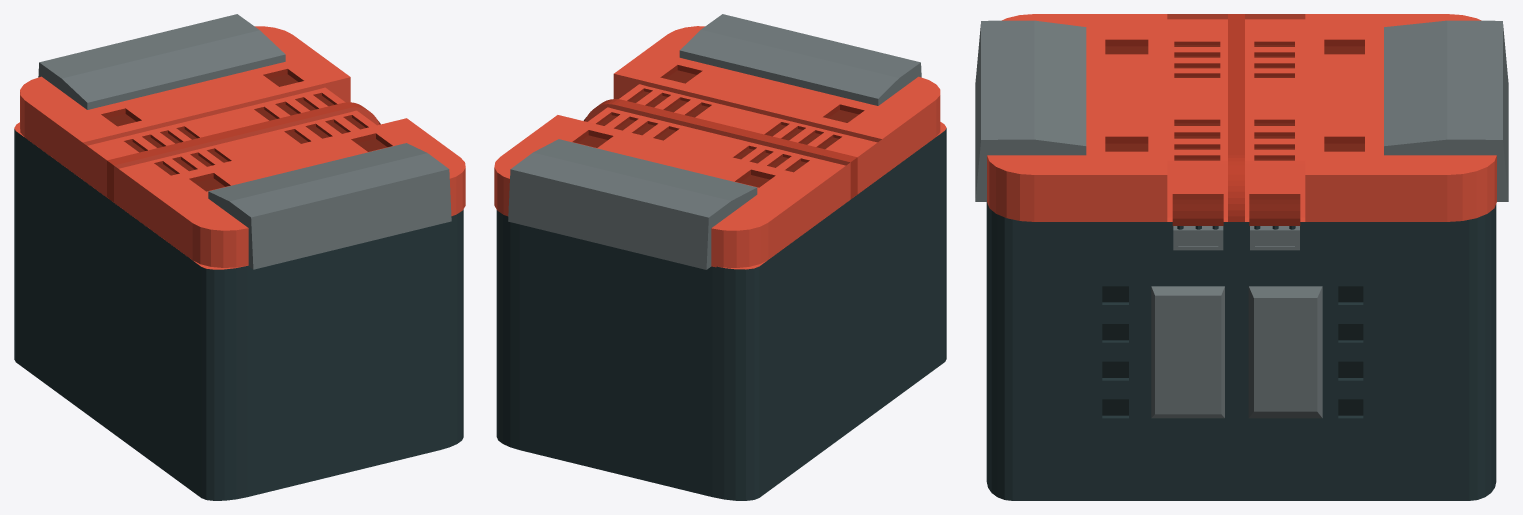
Rendered from BoxTall.fbx.
3 renders of one model, left to right at view 1: azimuth 30°, elevation 25°; view 2: azimuth 150°, elevation 25°; view 3: azimuth 270°, elevation 25°, orthographic. The views are drawn at different scales.
Visible parts, largest first — view 1: Base, Tapa; view 2: Base, Tapa; view 3: Base, Tapa, Cylinder.001, Cylinder.002.
Boxes of the visible parts, x1=… form: Base: x1=14, y1=122, x2=463, y2=500; Tapa: x1=20, y1=14, x2=465, y2=269; Base: x1=496, y1=122, x2=946, y2=500; Tapa: x1=494, y1=14, x2=940, y2=269; Base: x1=986, y1=202, x2=1496, y2=500; Tapa: x1=975, y1=14, x2=1508, y2=221; Cylinder.001: x1=1172, y1=194, x2=1223, y2=250; Cylinder.002: x1=1249, y1=194, x2=1300, y2=250.
Size of the model in its own units: 206 by 200 by 280.
